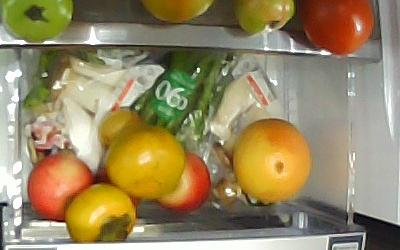apple: (28, 152, 94, 220), (152, 149, 210, 214)
grapefruit: (232, 118, 315, 204)
persimmon: (104, 125, 185, 200), (65, 182, 136, 243)
prune: (97, 107, 142, 146)
